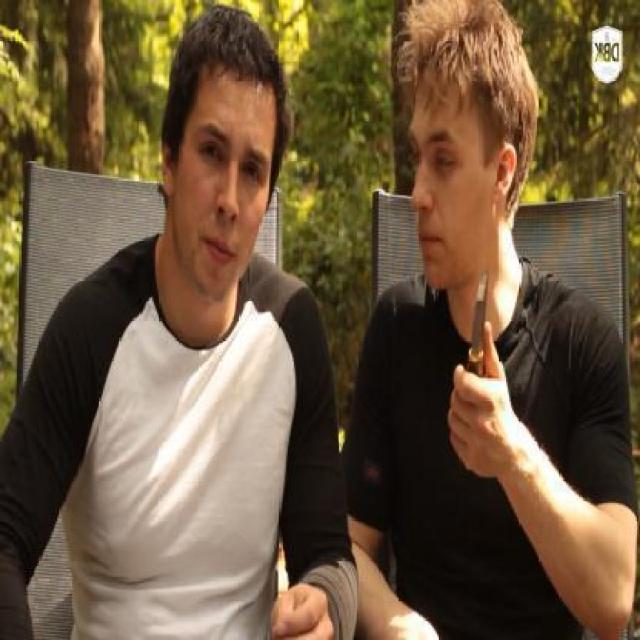knife: (443, 245, 512, 437)
